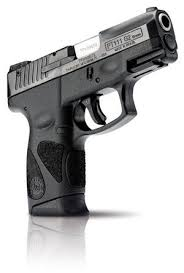gun: (5, 6, 180, 219)
